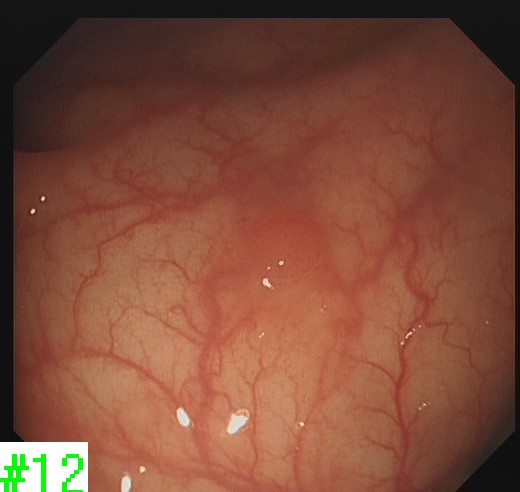adenoma: (230, 207, 333, 288)
